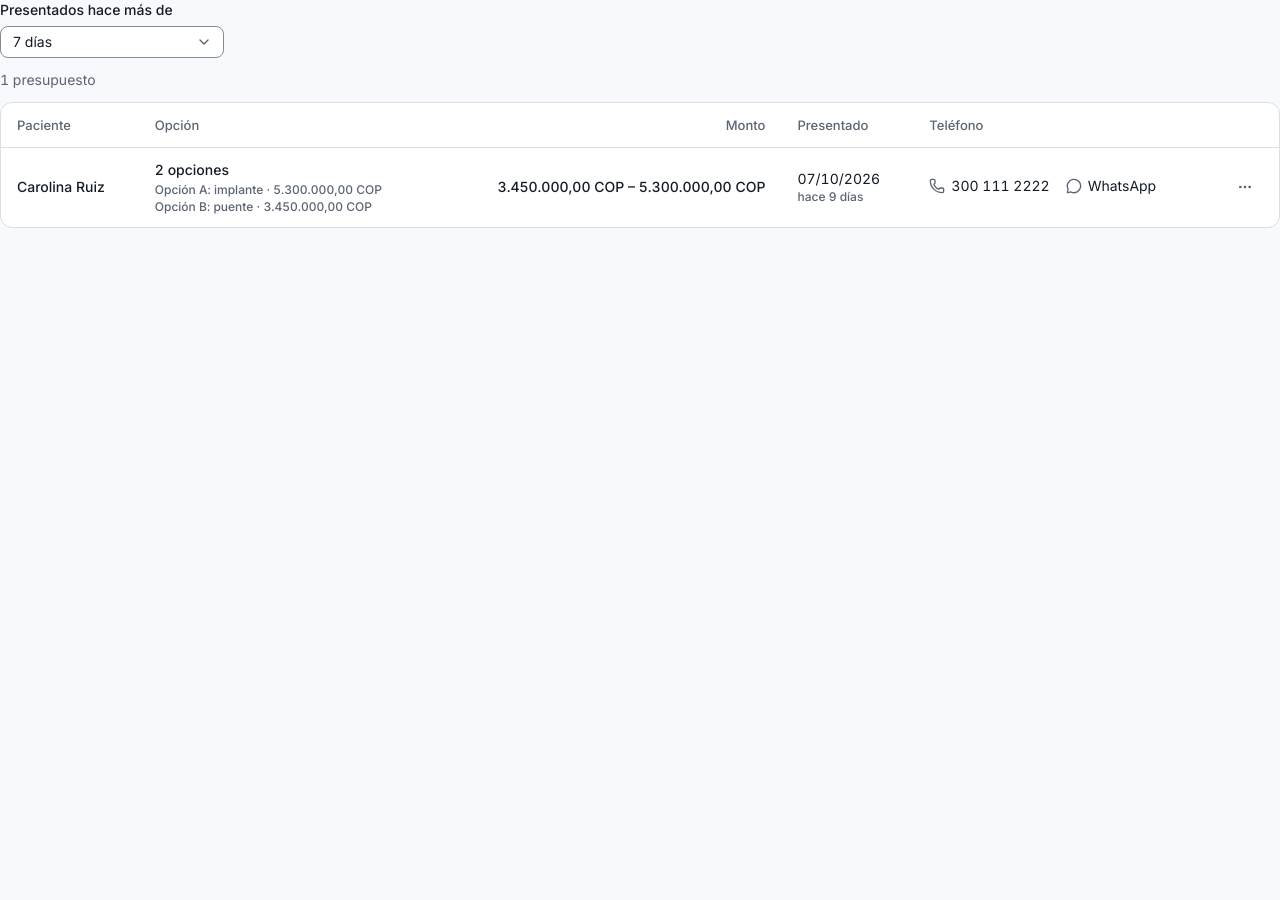
Test: PendingFollowUpView (DX-040) › D2: una fila por conversación (opciones A/B agrupadas) › «Marcar rechazadas las 2 opciones» rechaza cada opción con el mismo motivo
Click the button named "Acciones de Carolina Ruiz".
click(1245, 188)  # box [1227,170,1263,206]
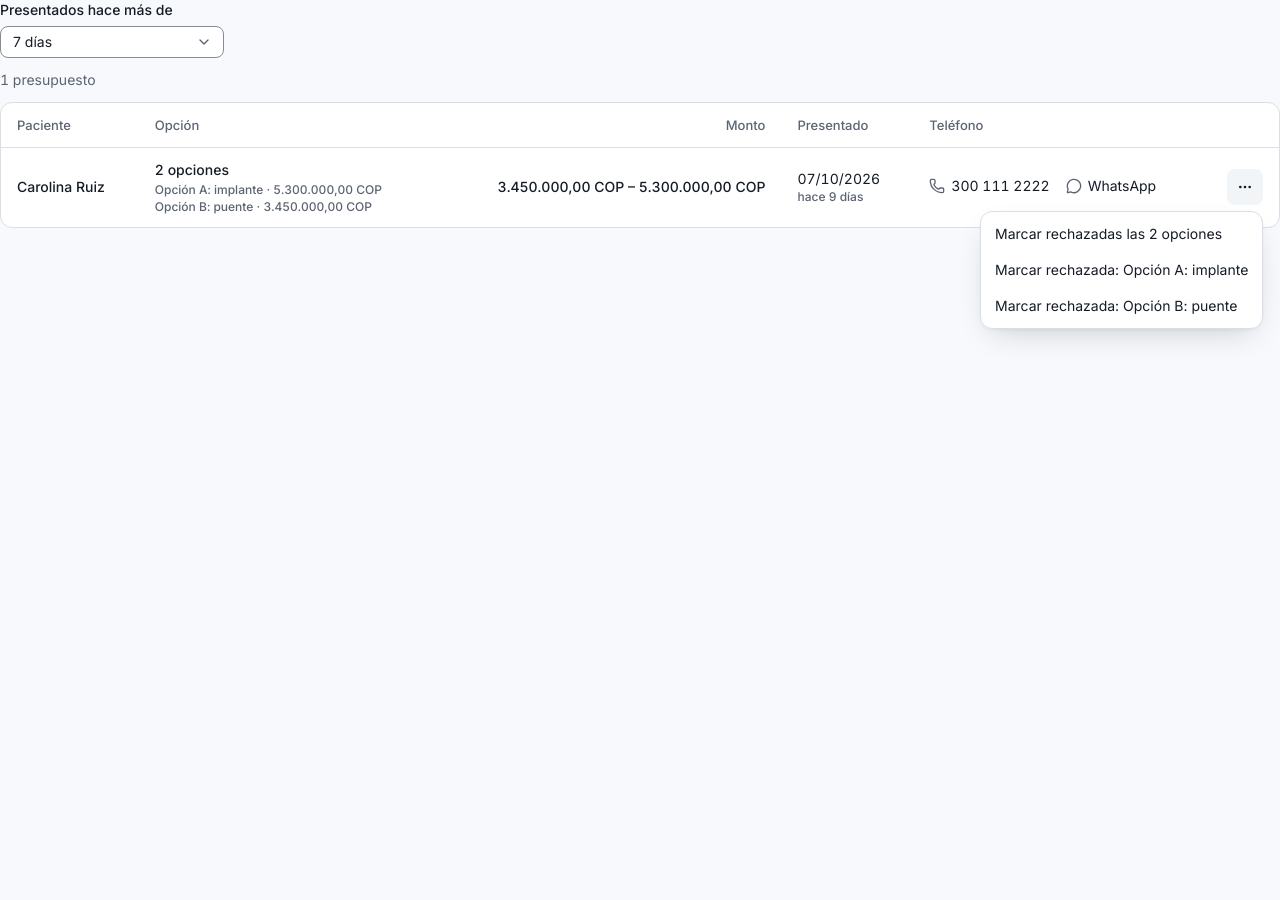
Expected: the menu item "Marcar rechazada: Opción B: puente" is shown, [995,297,1237,314]
Click the menu item "Marcar rechazadas las 2 opciones".
click(1109, 234)  # box [995,225,1222,242]
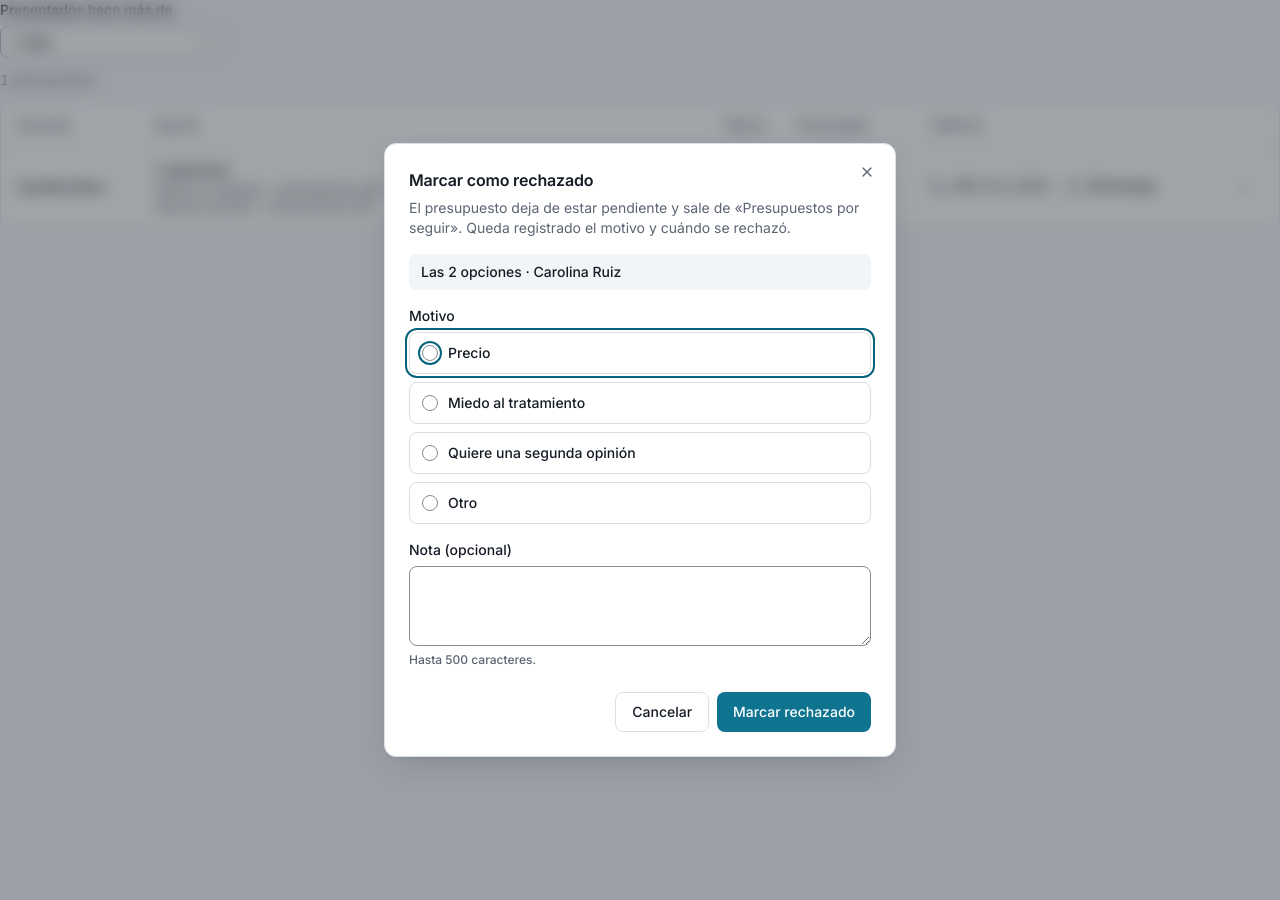
Expected: the text "Las 2 opciones · Carolina Ruiz" is shown, [409,254,871,290]
Click the radio button labelled "Precio".
click(430, 353)  # box [422,345,438,361]
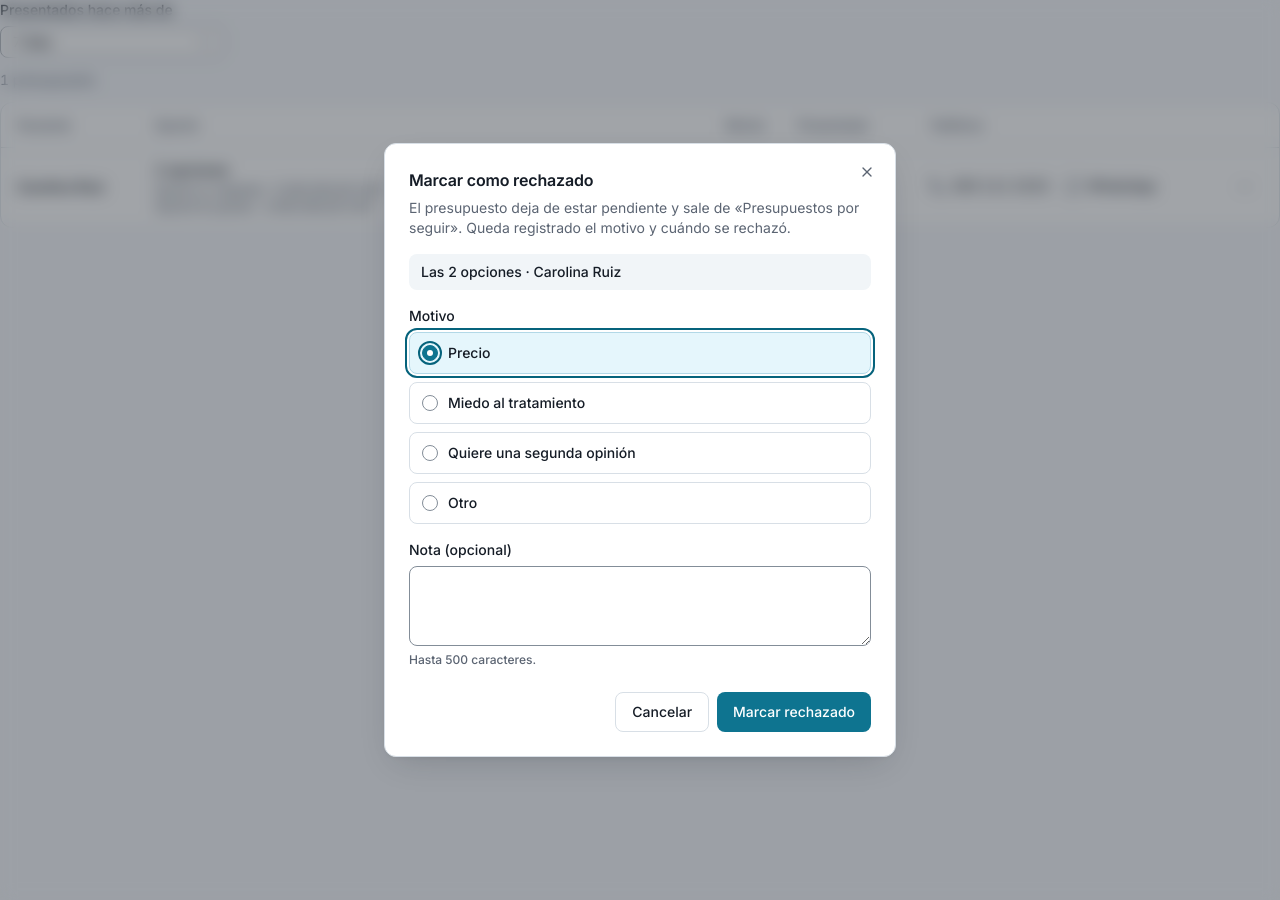
Click the button "Marcar rechazado".
click(794, 712)  # box [717,692,871,732]
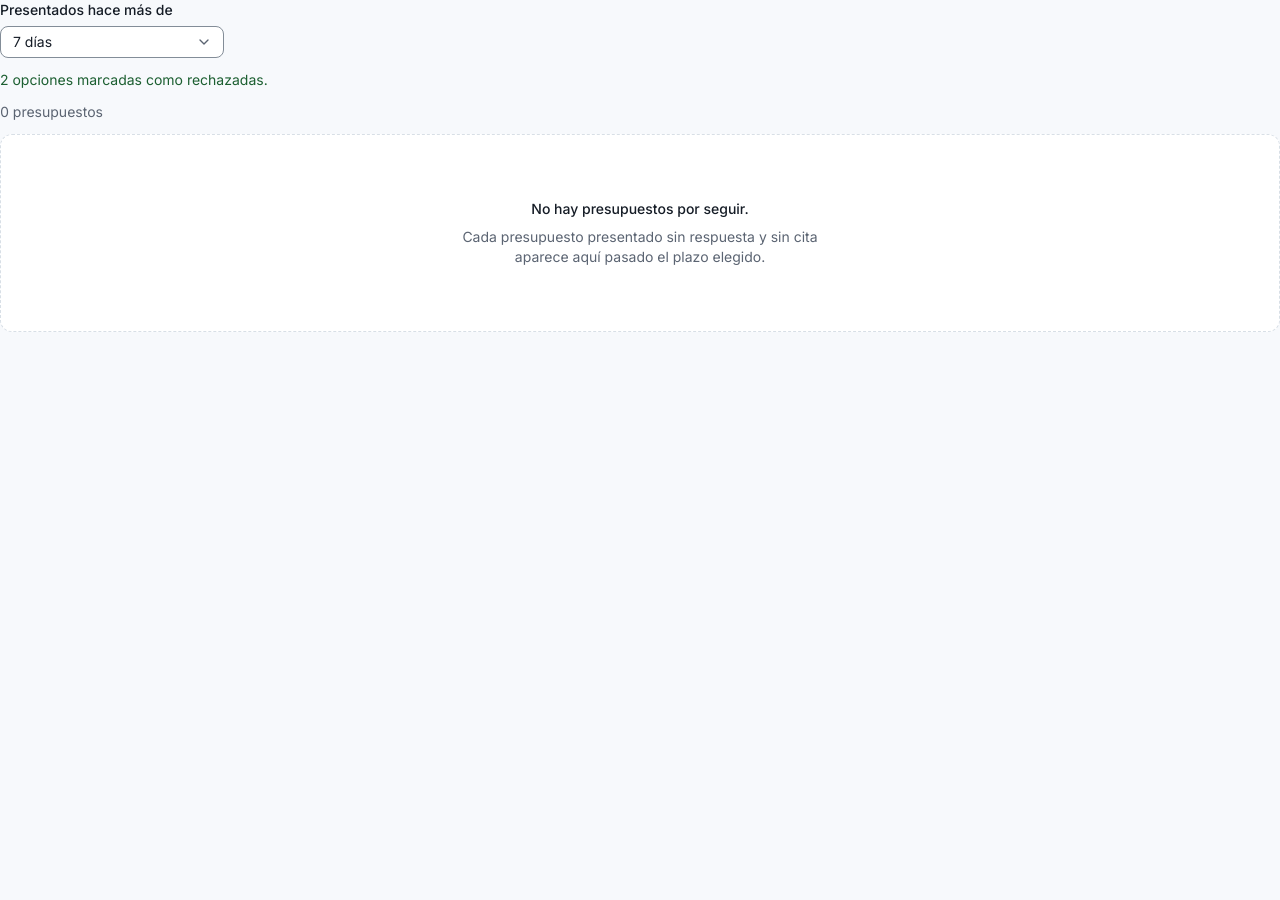
Expected: the text "2 opciones marcadas como rechazadas." is shown, [0,71,268,88]
